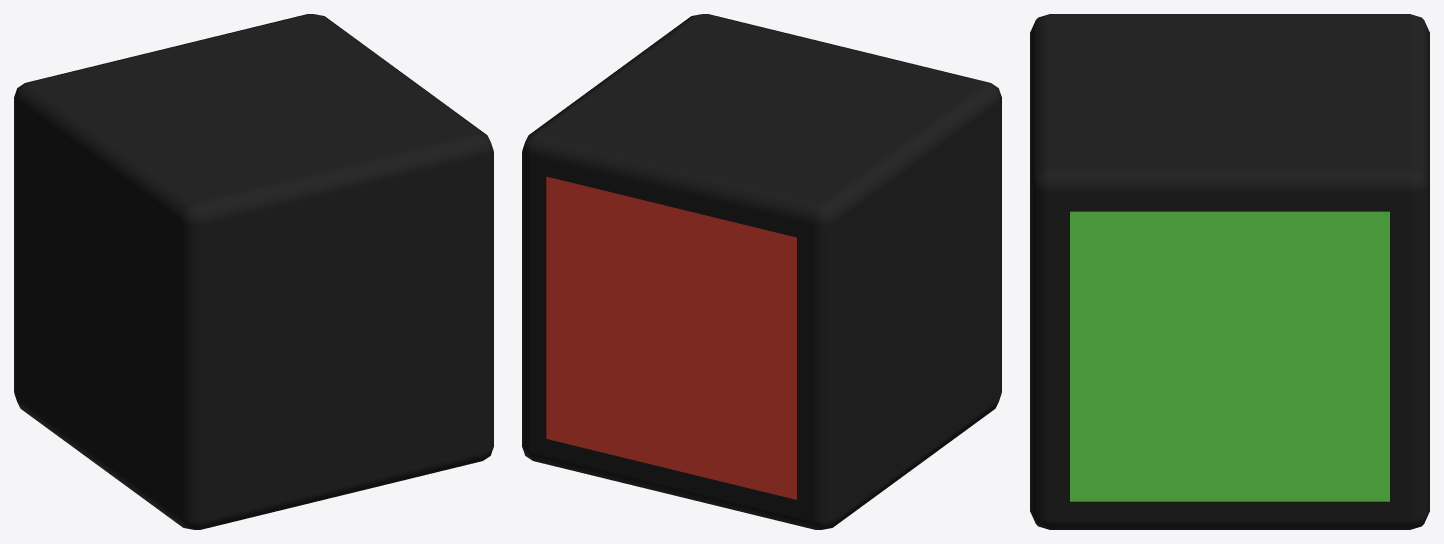
3 views of the same model, side by side, from view 1: azimuth 30°, elevation 25°; view 2: azimuth 150°, elevation 25°; view 3: azimuth 270°, elevation 25° (orthographic). The views are drawn at different scales.
Visible parts, largest first — view 1: 9; view 2: 9; view 3: 9.
Boxes of the visible parts, x1,y1,x2,y2 form: 9: [14, 14, 493, 529]; 9: [522, 14, 1001, 529]; 9: [1030, 14, 1429, 529].
Bounding box in the file's own units: 2 × 2 × 2.
